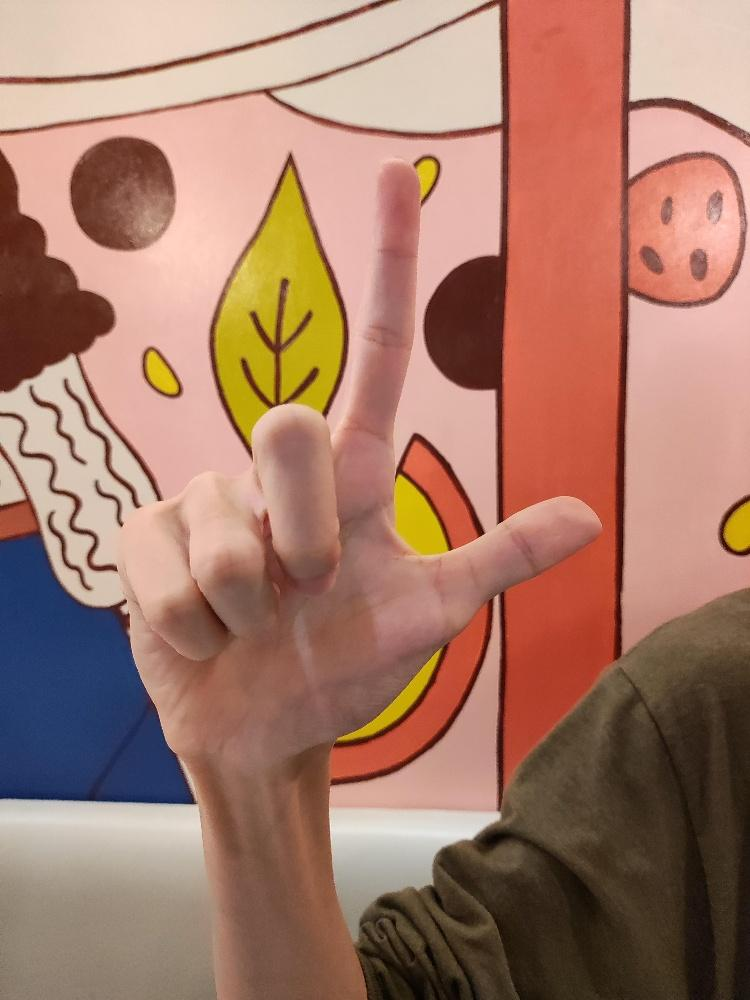l: (112, 156, 605, 770)
